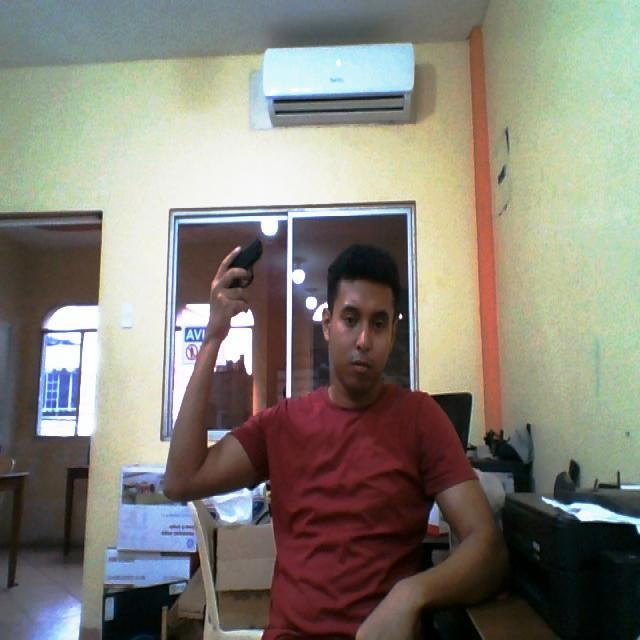Gun: (216, 234, 286, 314)
